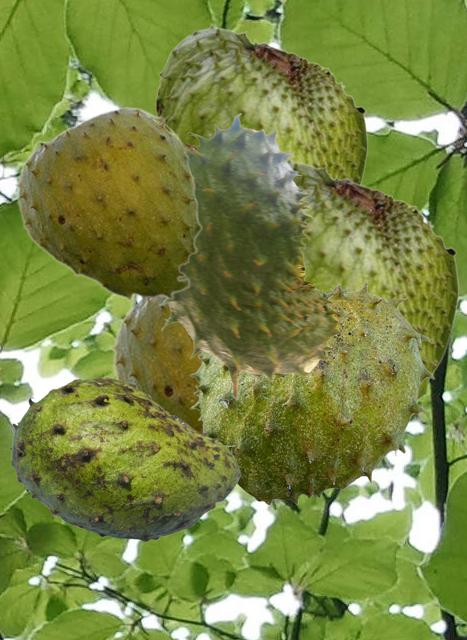guyabano: (189, 281, 434, 504), (158, 113, 340, 399), (287, 158, 458, 400), (9, 376, 240, 541), (13, 106, 202, 303), (155, 22, 367, 183), (108, 298, 240, 488)
